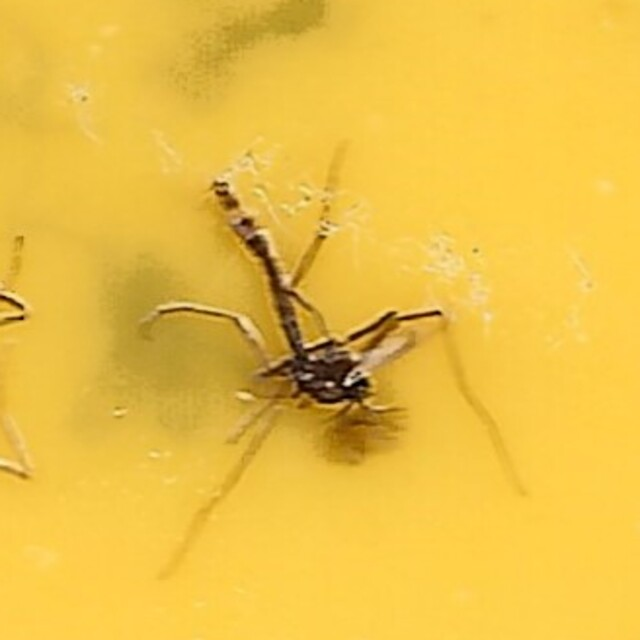Nematocera: (195, 171, 445, 469)
